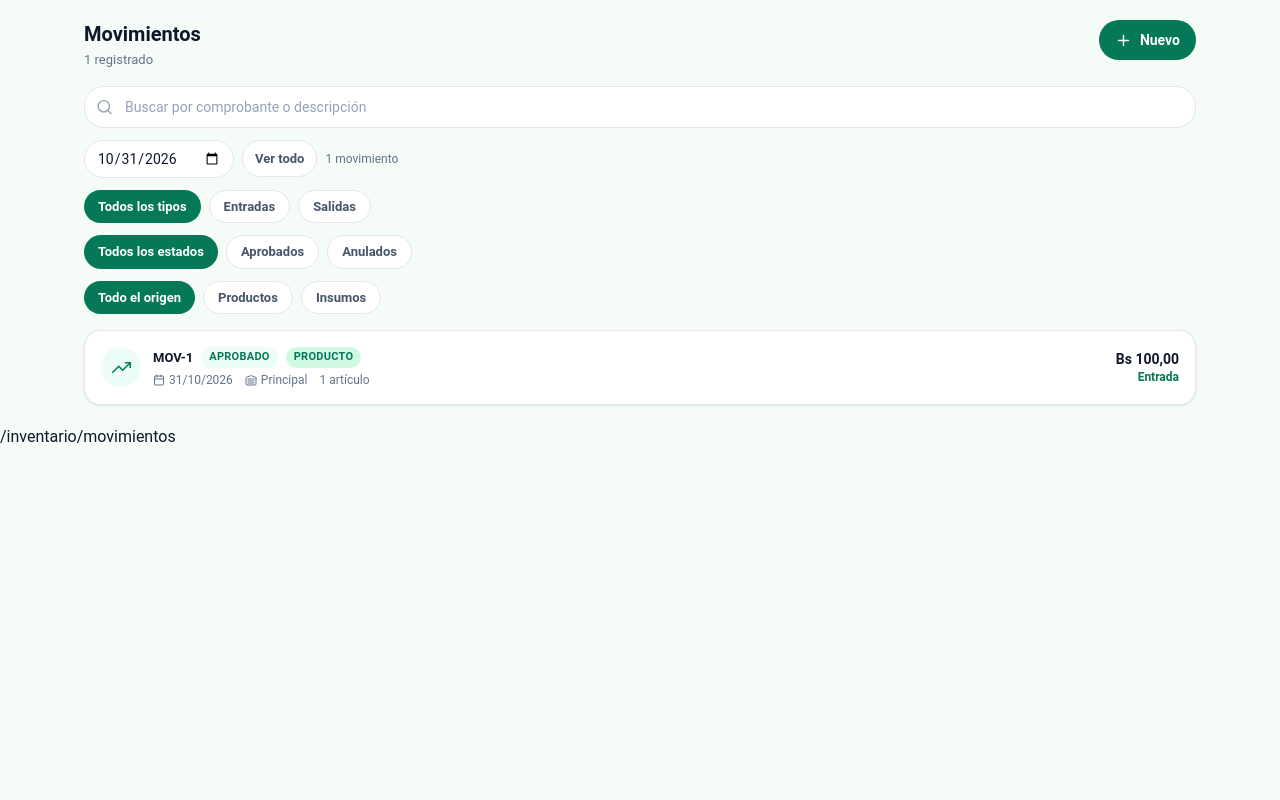
Test: Agregar artículo buscando › cada palabra filtra por separado y sin tildes
The width and height of the screenshot is (1280, 800).
Check: the text "MOV-1" is shown, box x1=153 y1=348 x2=193 y2=367
Click the button "Nuevo" at (1147, 40), box x1=1099 y1=20 x2=1196 y2=60
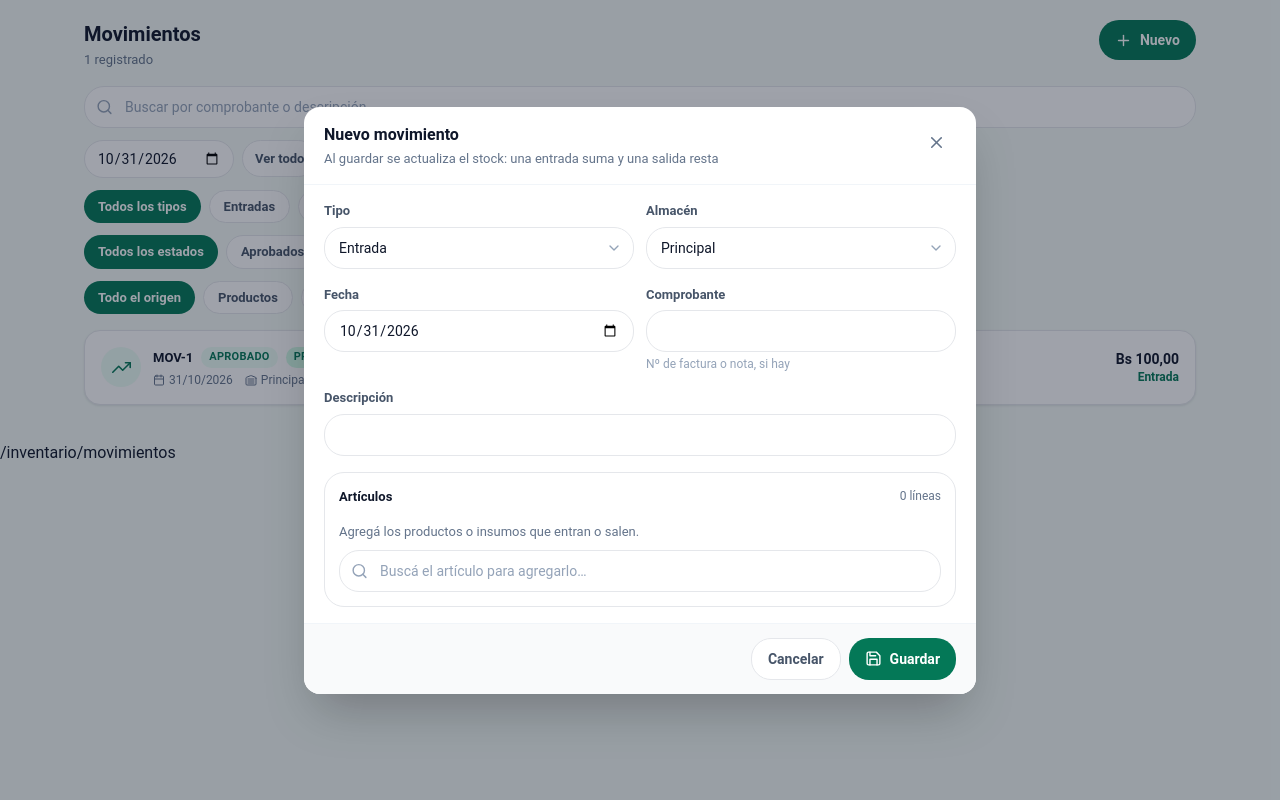
Check: the dropdown named "Buscar artículo" is enabled
Type "coca 2" into the dropdown named "Buscar artículo" at (640, 570), box x1=339 y1=550 x2=941 y2=592
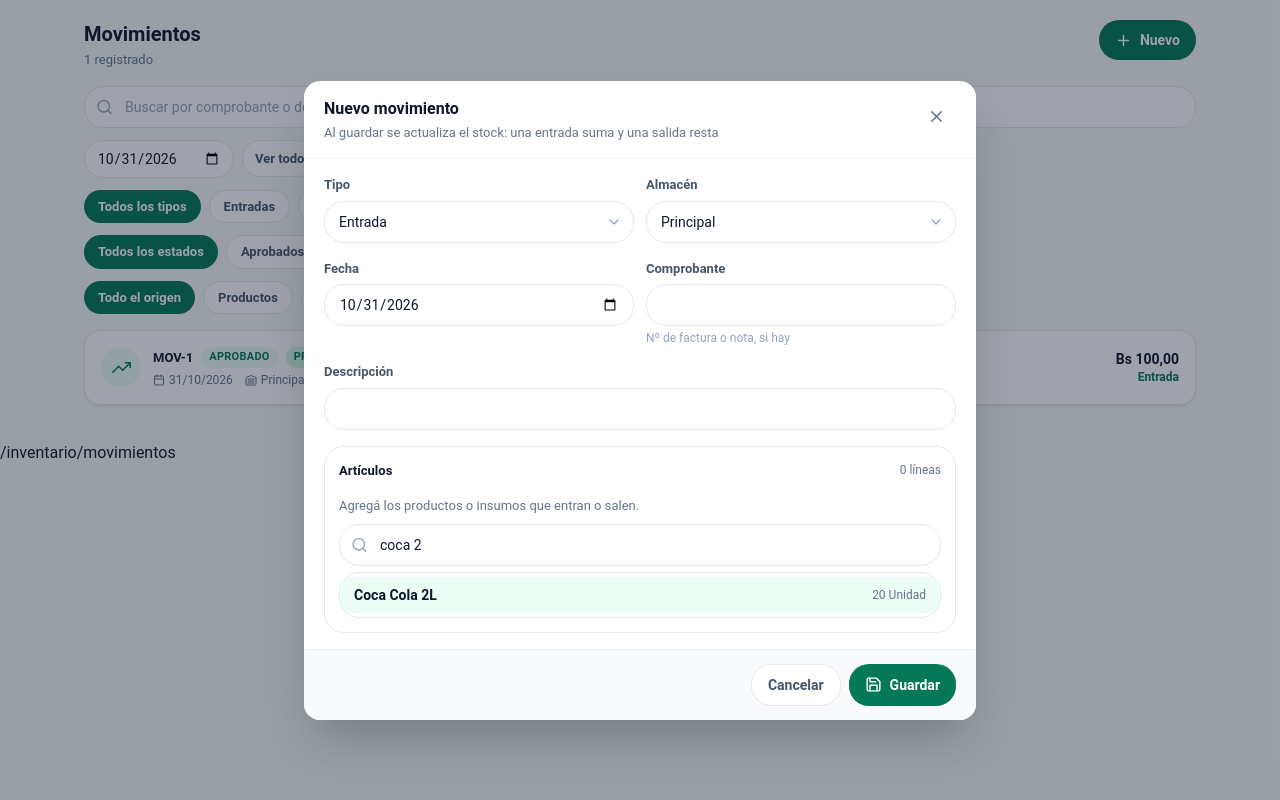
Replace the text in the dropdown named "Buscar artículo" with "CAFE" at (640, 544), box x1=339 y1=524 x2=941 y2=566
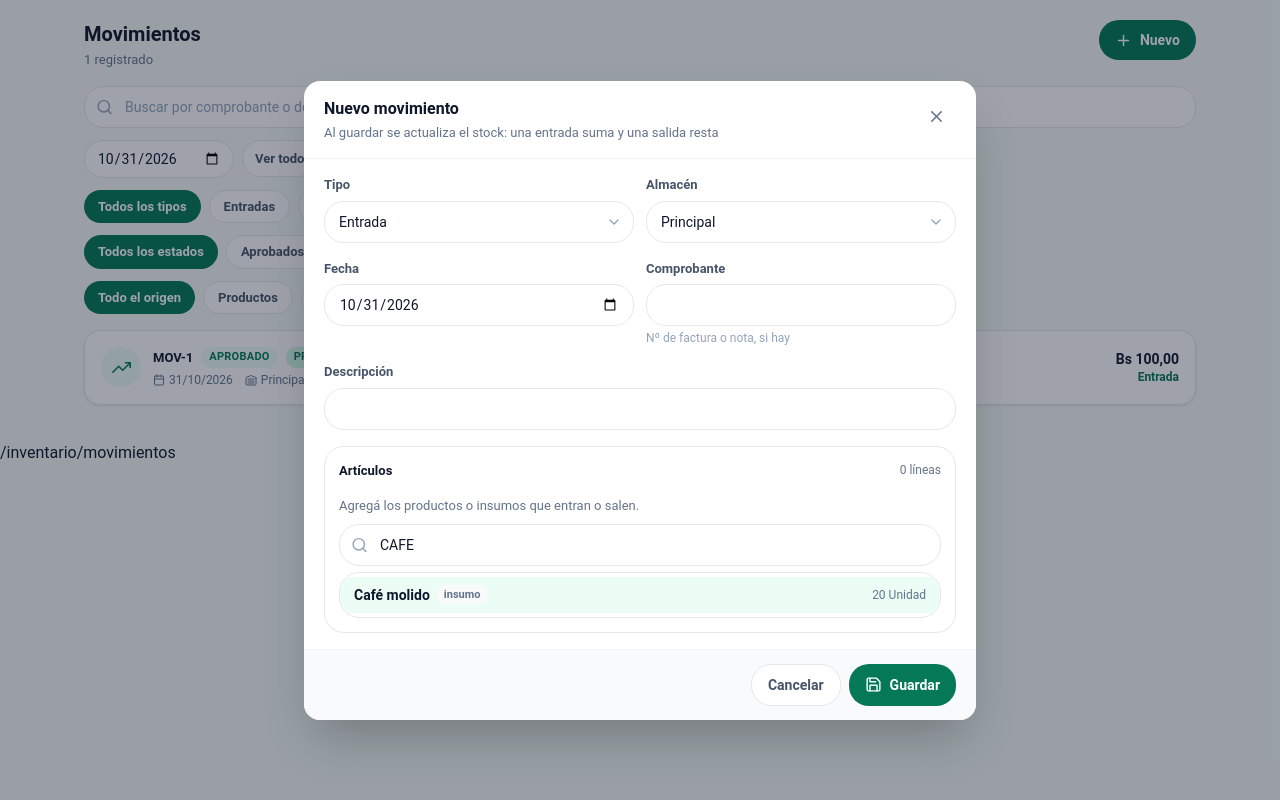
Replace the text in the dropdown named "Buscar artículo" with "pepsi" at (640, 544), box x1=339 y1=524 x2=941 y2=566
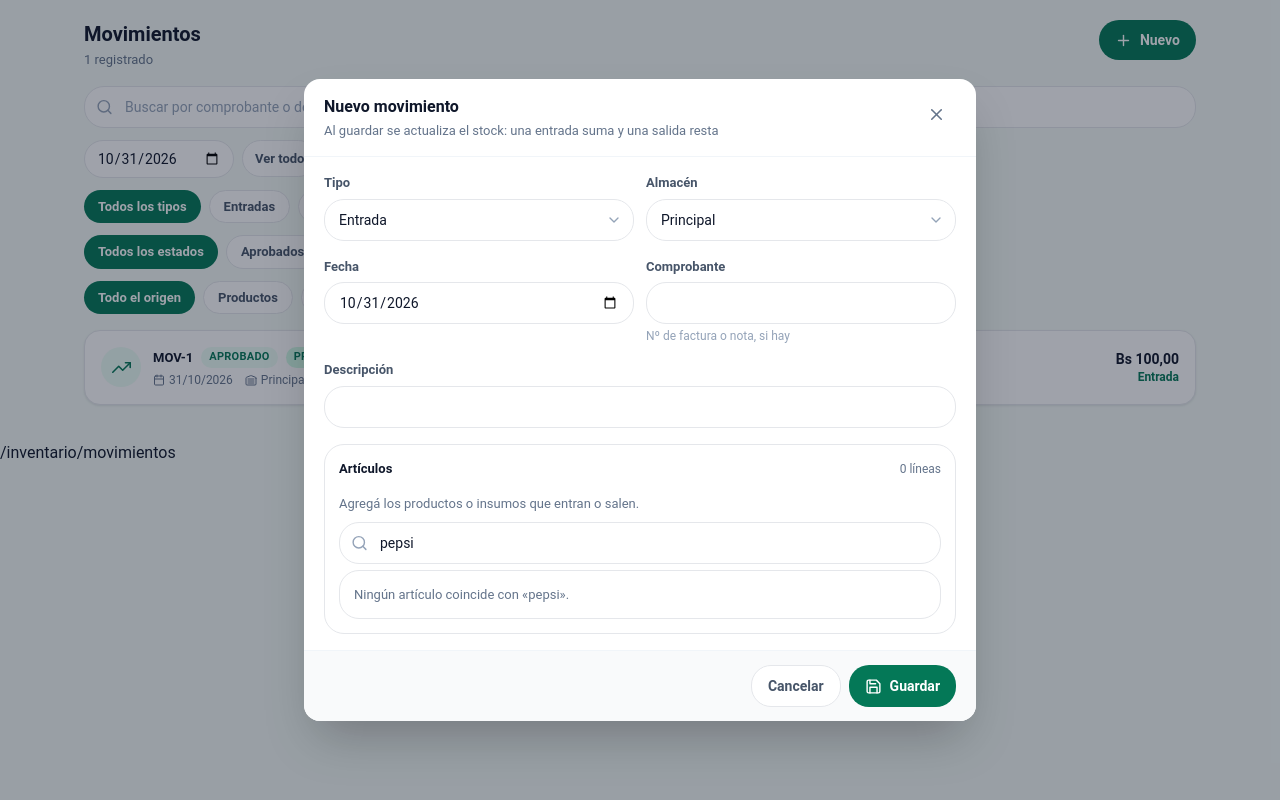
Check: the list item "Ningún artículo coincide con «pepsi»." is shown, box x1=354 y1=587 x2=569 y2=602
